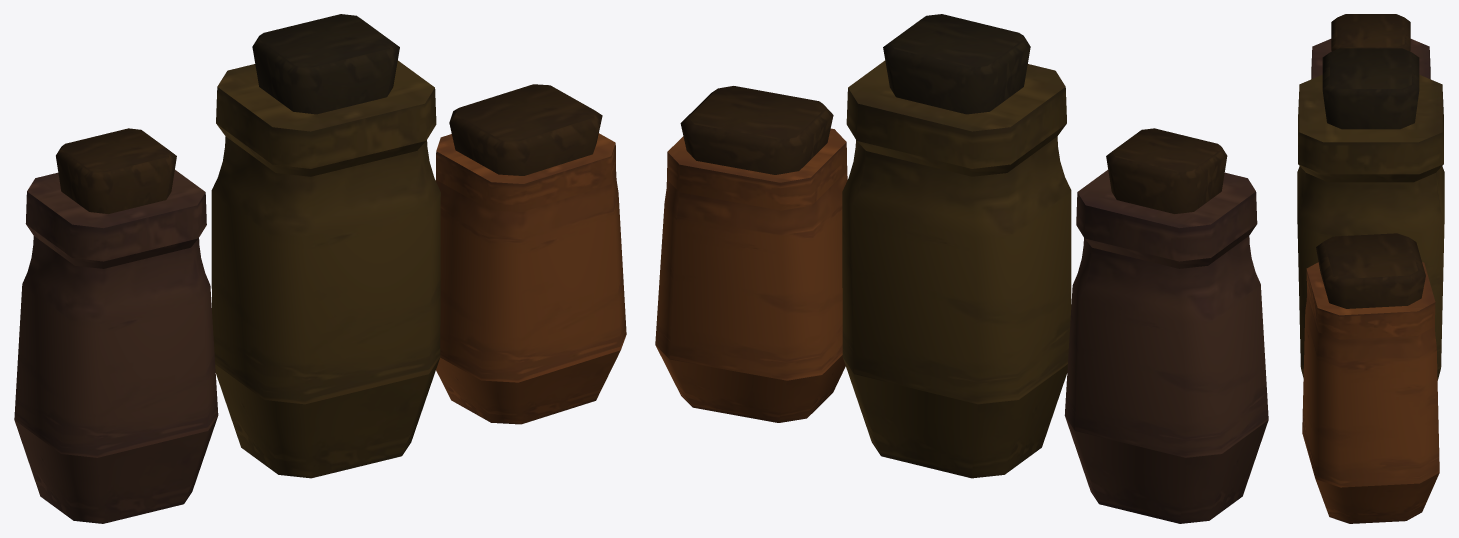
Rendered from SmallBottles_1.glb.
3 views of the same model, side by side, from view 1: azimuth 30°, elevation 25°; view 2: azimuth 150°, elevation 25°; view 3: azimuth 270°, elevation 25° (orthographic). The views are drawn at different scales.
Parts seen in each view (by area): view 1: SmallBottles_1; view 2: SmallBottles_1; view 3: SmallBottles_1.
Boxes of the visible parts, x1,y1,x2,y2 form: SmallBottles_1: [14, 14, 626, 523]; SmallBottles_1: [655, 14, 1268, 523]; SmallBottles_1: [1297, 14, 1444, 523].
Bounding box in the file's own units: 0.2151 × 0.1454 × 0.0558.
Materials: 1 (1 with a texture image).
